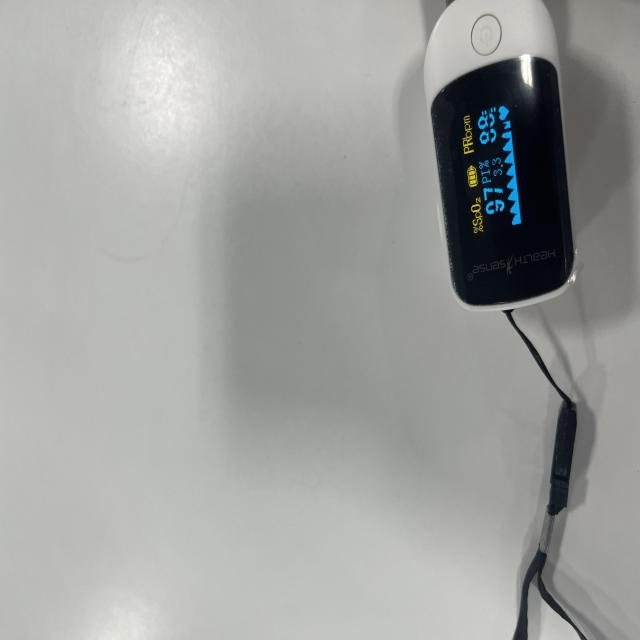spo2: (422, 0, 576, 312)
